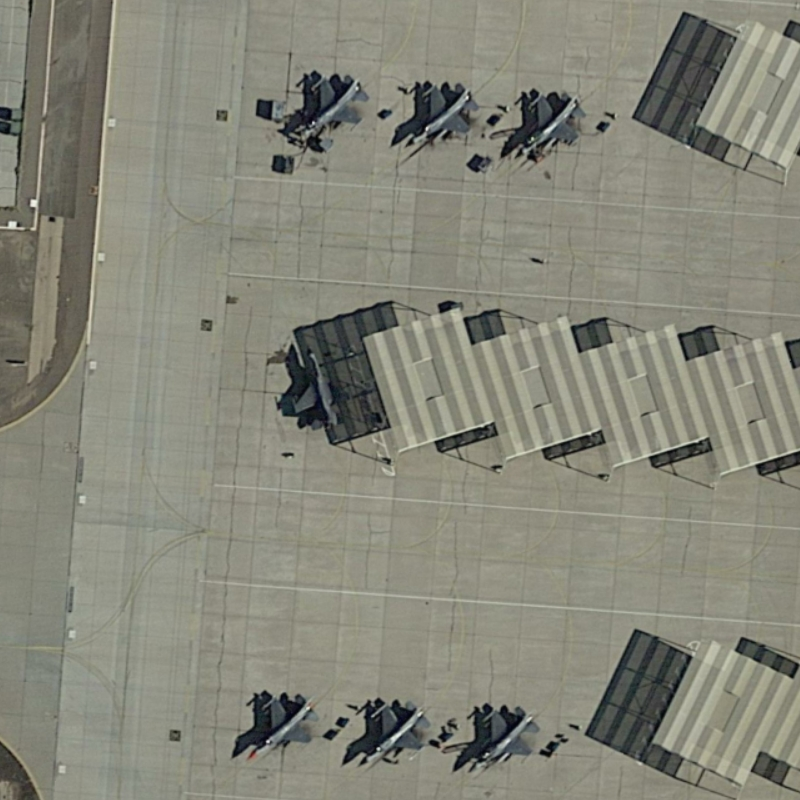A5: (284, 69, 375, 146), (508, 87, 592, 163), (288, 342, 356, 433), (464, 703, 543, 779), (398, 81, 483, 150), (355, 696, 433, 770), (244, 690, 321, 762)
